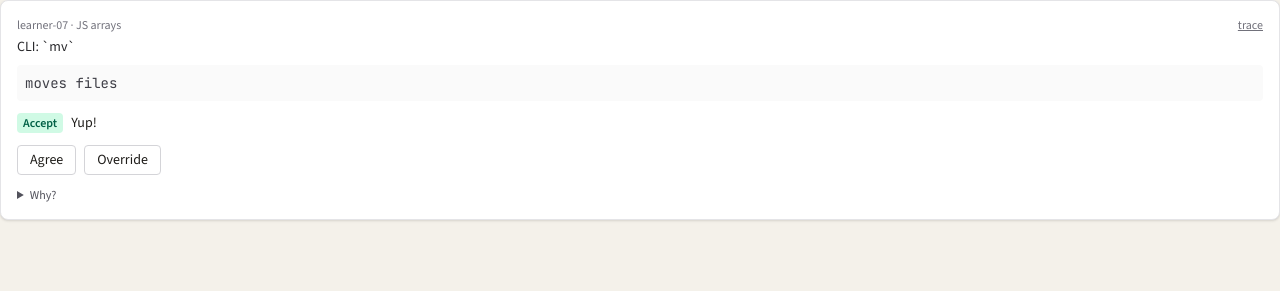
Scenario: QueueRowCard › opens the editor to override a recorded grade
This screenshot has width=1280, height=291.
Click the button "Override". click: (123, 160)
box: [84,145,161,175]
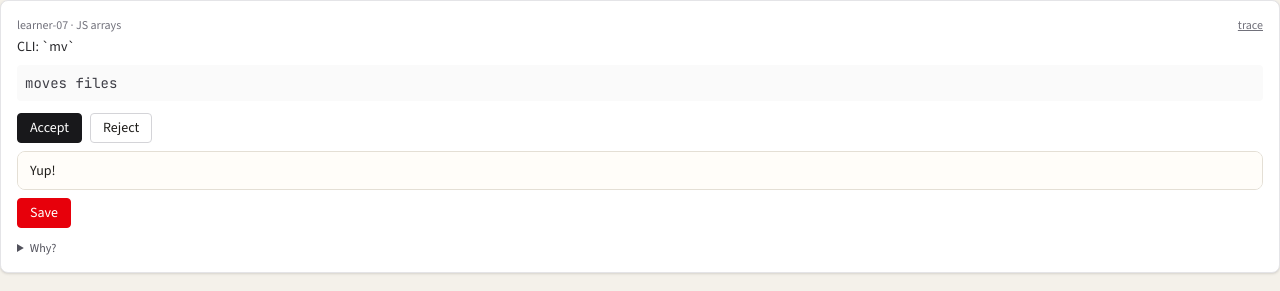
Check: the text box named "Feedback to the learner" is shown, box [17,151,1263,190]
